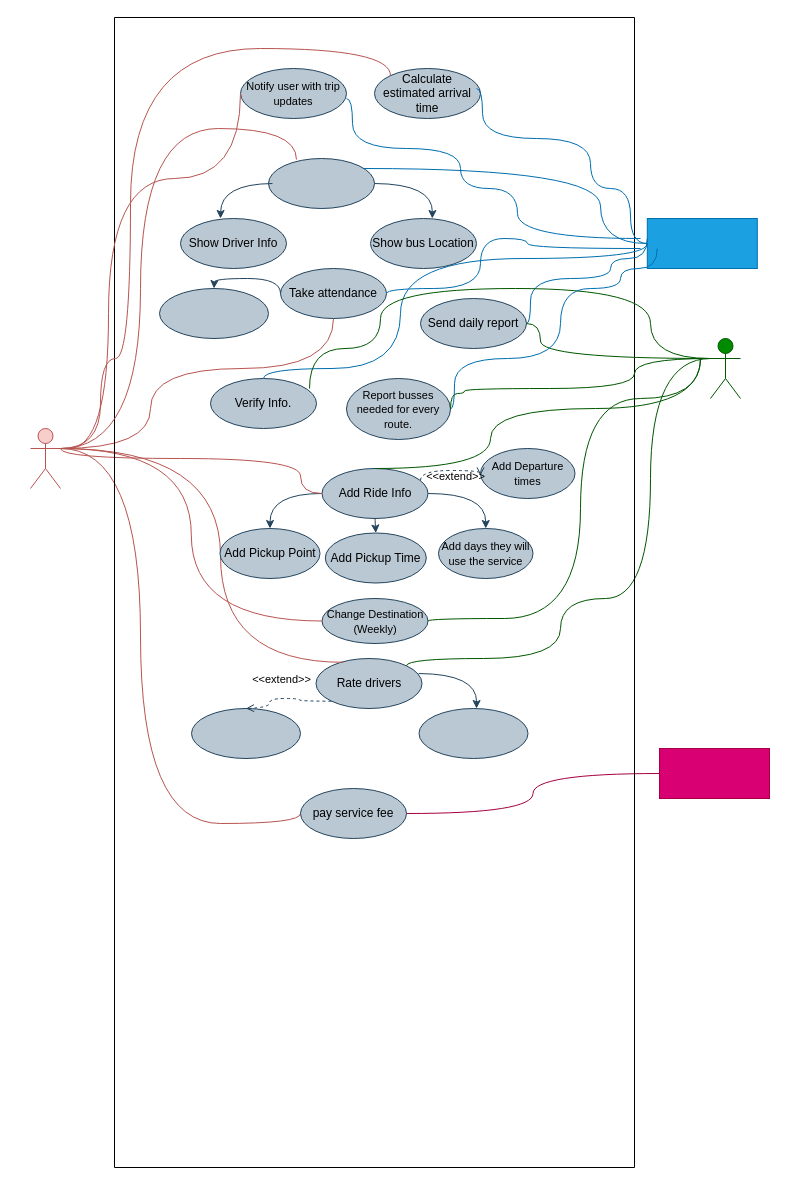
Some shapes in this 787 by 1185 pixel diagram are drawn without their labels. The centre of each missing label's shape, as x and y in pixels:
"bank" goes at pixel 714 773.
"Passenger" goes at pixel 45 458.
"Report a Problem" goes at pixel 245 733.
"Report low rated drivers" goes at pixel 473 733.
"Report unregistered students" goes at pixel 213 313.
"Server" goes at pixel 701 243.
"Show Trip Info" goes at pixel 321 183.
"Staff" goes at pixel 725 368.
